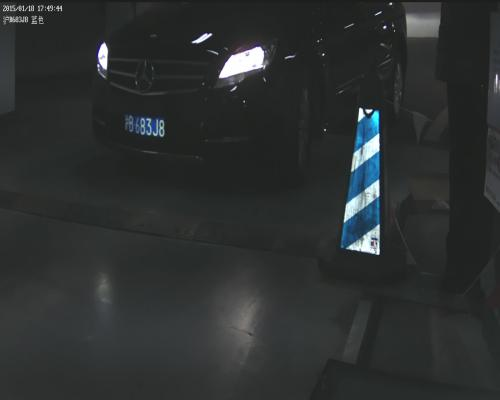Carplate: (120, 107, 171, 143)
